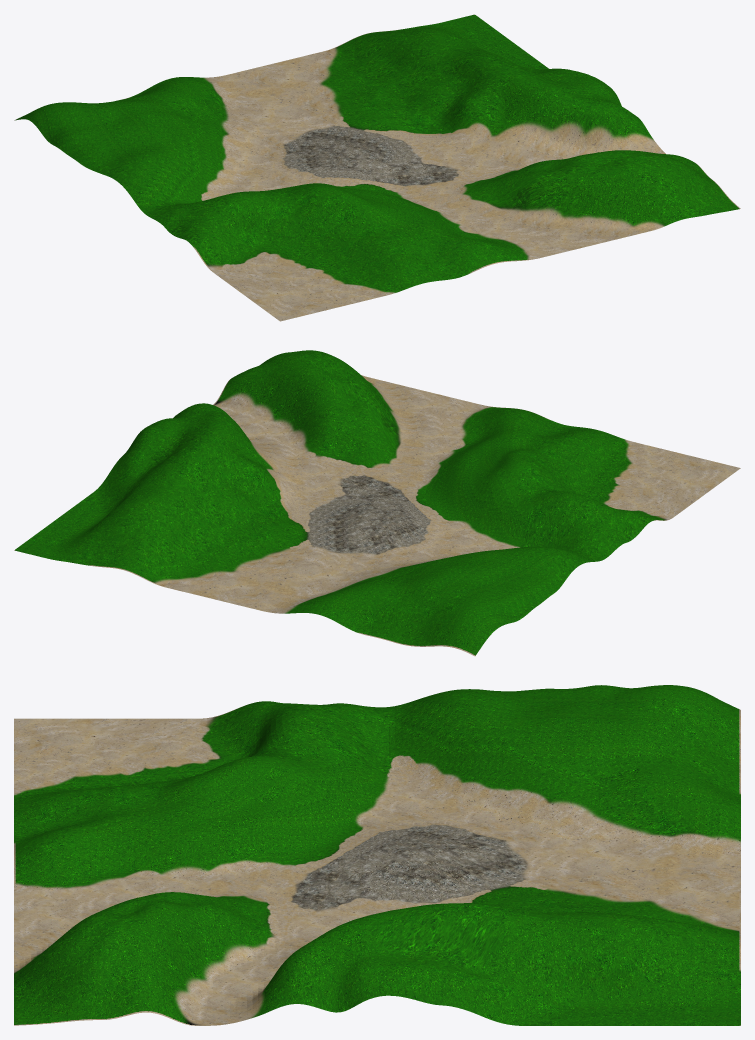
The model's file is Terrain.fbx.
The picture shows the model from 3 angles, top to bottom: view 1: azimuth 30°, elevation 25°; view 2: azimuth 150°, elevation 25°; view 3: azimuth 270°, elevation 25°; orthographic projection. The views are drawn at different scales.
Parts seen in each view (by area): view 1: Plane; view 2: Plane; view 3: Plane.
Boxes of the visible parts, x1=… form: Plane: x1=14, y1=14, x2=740, y2=321; Plane: x1=14, y1=350, x2=740, y2=656; Plane: x1=14, y1=685, x2=740, y2=1025.
Bounding box in the file's own units: 1863 × 181 × 1820.
1 material, 1 textured.
